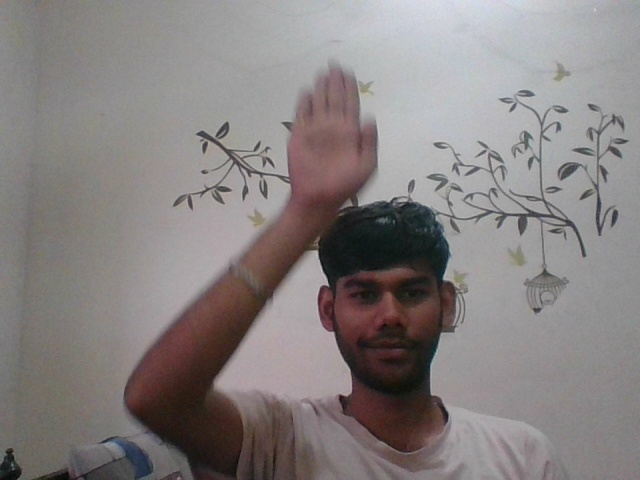Hello: (284, 65, 383, 209)
